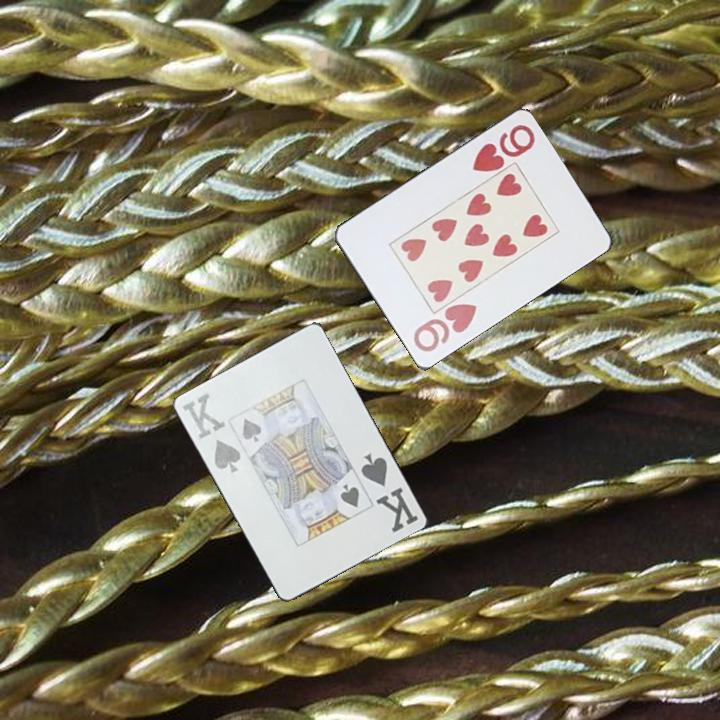9h: (409, 300, 480, 355), (468, 121, 538, 176)
Ks: (357, 449, 422, 536), (179, 389, 244, 476)
